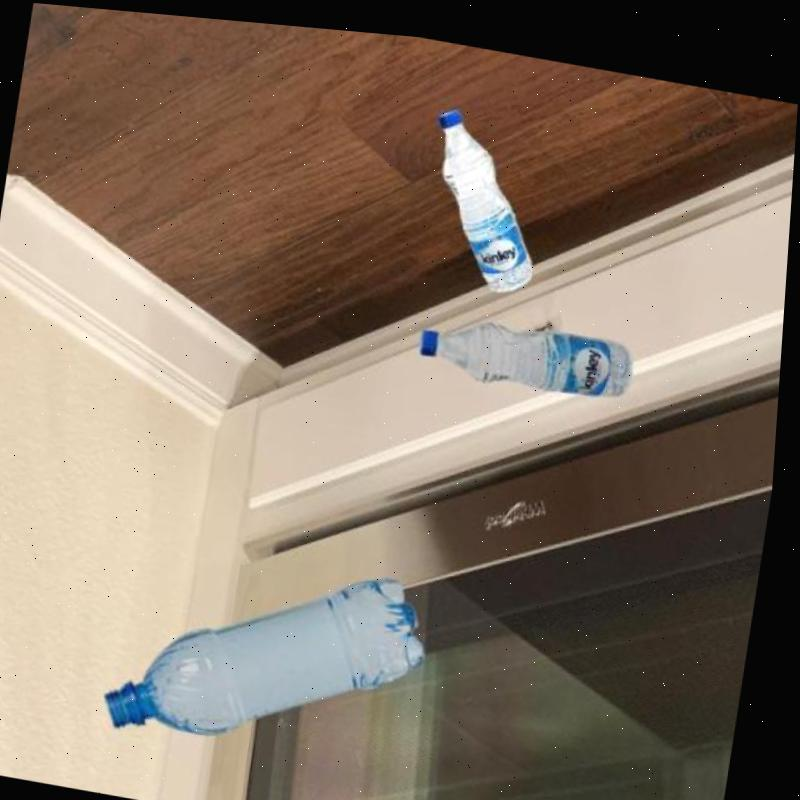botella: (109, 525, 446, 778), (417, 95, 560, 289), (418, 301, 642, 396)
